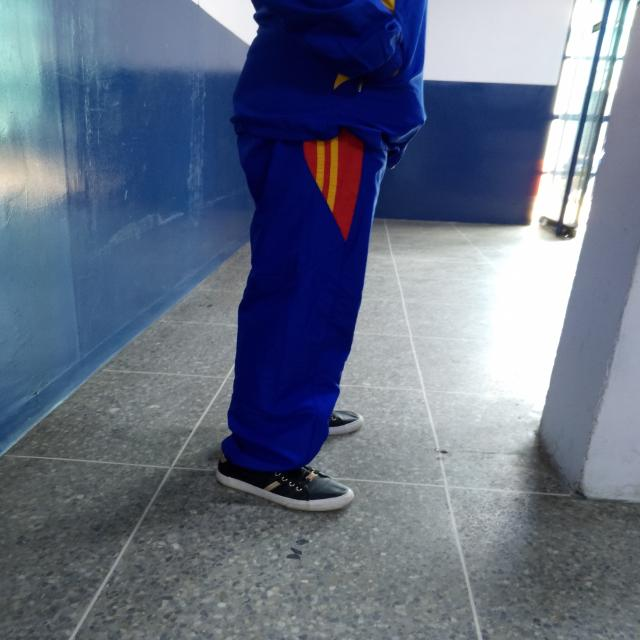chaqueta_unefa: (227, 0, 431, 150)
